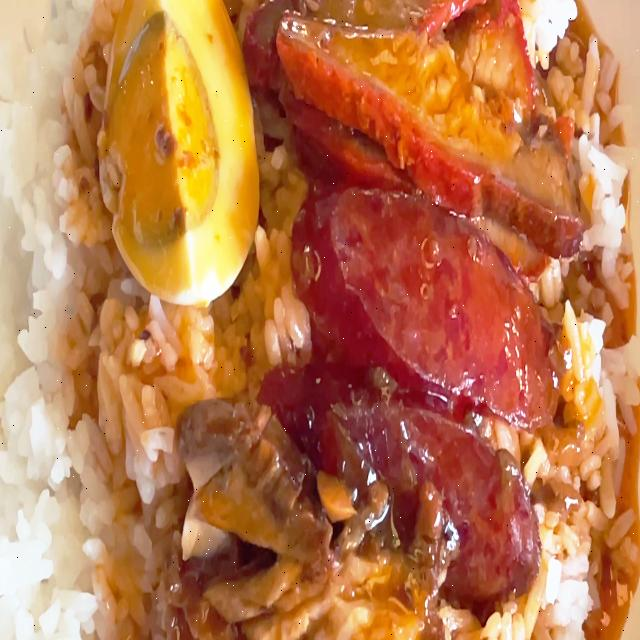boiled_egg: (118, 4, 243, 280)
chainese_sausage: (299, 198, 539, 555)
crispy_pork: (245, 543, 459, 640), (184, 412, 303, 572)
red_pork: (258, 0, 544, 220)
red_pork_and_crispy_pork: (0, 0, 640, 640)
rice: (0, 0, 101, 640), (88, 310, 178, 640), (559, 301, 620, 640), (585, 130, 629, 288), (541, 11, 572, 67)
